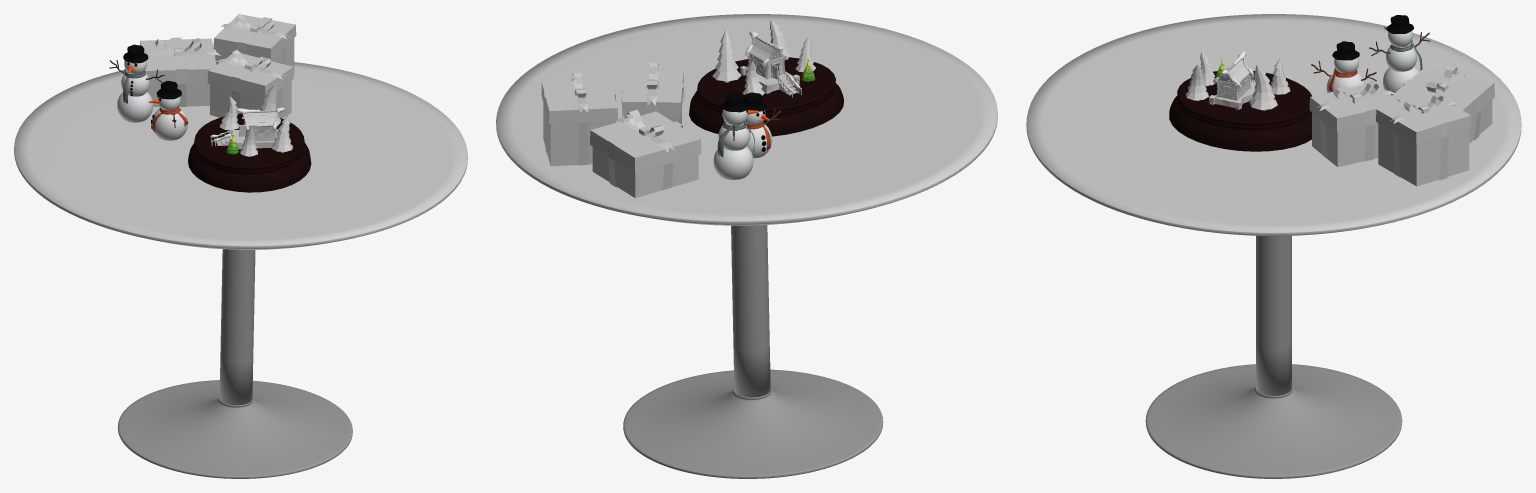
Rendered from proj.obj.
3 renders of one model, left to right at view 1: azimuth 30°, elevation 25°; view 2: azimuth 150°, elevation 25°; view 3: azimuth 270°, elevation 25°, orthographic. The views are drawn at different scales.
Parts seen in each view (by area): view 1: tab1_Mesh, Podest_Mesh, Cube.015_Mesh, Cube.017_Mesh, Cube.016_Mesh, snowman2_Mesh, snowman1_Mesh, Roxa.002_Mesh; view 2: tab1_Mesh, Cube.017_Mesh, Podest_Mesh, Cube.016_Mesh, Cube.015_Mesh, snowman2_Mesh, snowman1_Mesh, Verde_Mesh; view 3: tab1_Mesh, Cube.016_Mesh, Podest_Mesh, Cube.015_Mesh, Cube.017_Mesh, snowman2_Mesh, snowman1_Mesh, Verde_Mesh, Roxa.002_Mesh.
Boxes of the visible parts, bbox=[...] form: tab1_Mesh: bbox=[14, 62, 467, 478]; Podest_Mesh: bbox=[188, 113, 311, 192]; Cube.015_Mesh: bbox=[207, 49, 293, 118]; Cube.017_Mesh: bbox=[140, 37, 220, 106]; Cube.016_Mesh: bbox=[213, 14, 296, 75]; snowman2_Mesh: bbox=[109, 44, 164, 122]; snowman1_Mesh: bbox=[149, 80, 188, 140]; Roxa.002_Mesh: bbox=[272, 114, 292, 152]; tab1_Mesh: bbox=[496, 14, 997, 478]; Cube.017_Mesh: bbox=[590, 109, 701, 198]; Podest_Mesh: bbox=[689, 57, 843, 136]; Cube.016_Mesh: bbox=[541, 73, 617, 166]; Cube.015_Mesh: bbox=[621, 62, 684, 124]; snowman2_Mesh: bbox=[713, 92, 758, 179]; snowman1_Mesh: bbox=[744, 92, 781, 158]; Verde_Mesh: bbox=[712, 30, 741, 82]; tab1_Mesh: bbox=[1026, 14, 1521, 478]; Cube.016_Mesh: bbox=[1376, 92, 1471, 186]; Podest_Mesh: bbox=[1169, 71, 1311, 151]; Cube.015_Mesh: bbox=[1309, 80, 1398, 167]; Cube.017_Mesh: bbox=[1392, 65, 1494, 143]; snowman2_Mesh: bbox=[1369, 15, 1430, 95]; snowman1_Mesh: bbox=[1311, 41, 1376, 92]; Verde_Mesh: bbox=[1249, 64, 1277, 110]; Roxa.002_Mesh: bbox=[1185, 64, 1208, 100].
Bounding box in the file's own units: 2.2 × 1.89 × 2.2.
